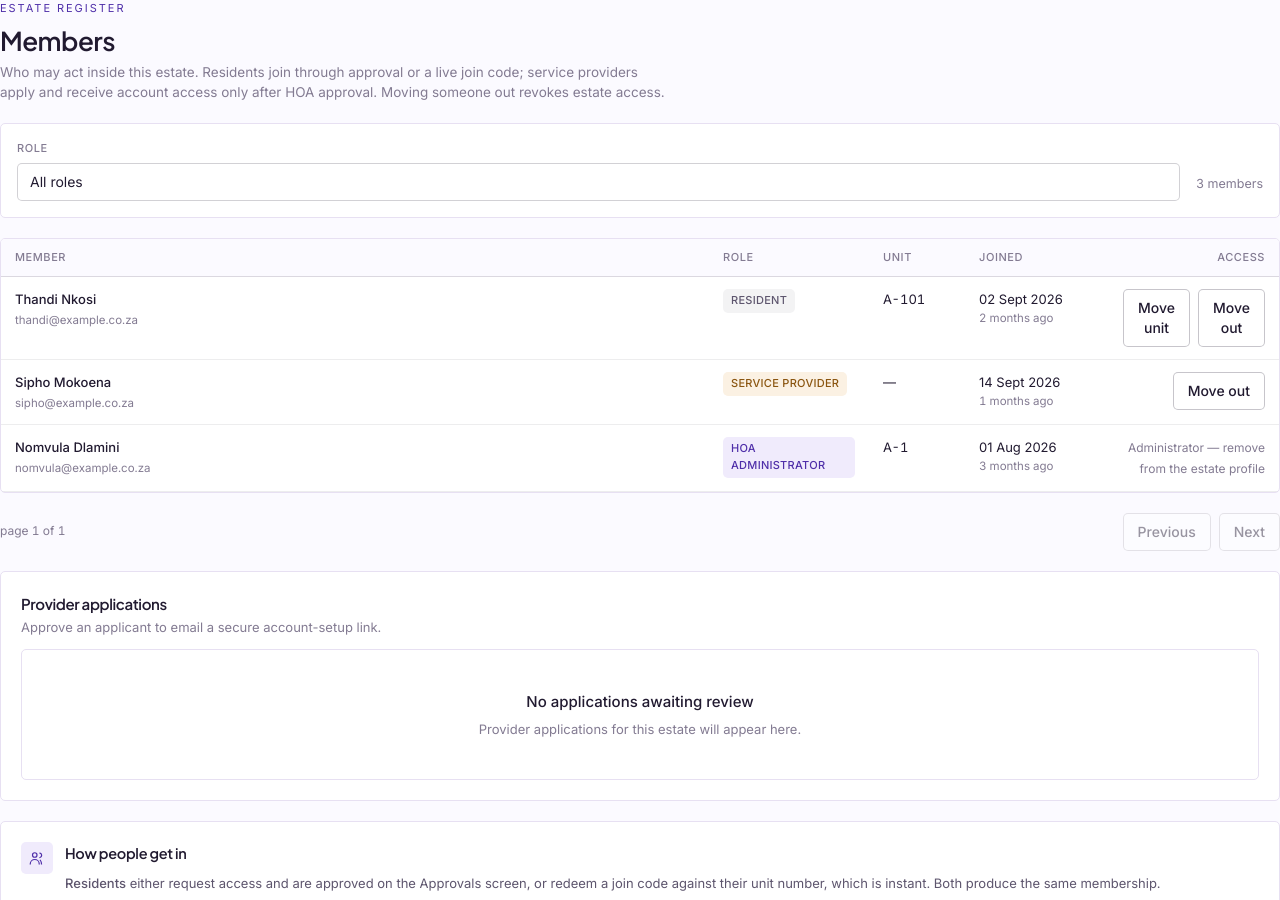
Scenario: Members — removal › removes on confirmation and reloads the register
This screenshot has width=1280, height=900.
Check: the text "Thandi Nkosi" is shown, box x1=15 y1=292 x2=96 y2=308
Click the button "Move out" in the row of "Thandi Nkosi" at (1232, 318), box x1=1198 y1=290 x2=1265 y2=348
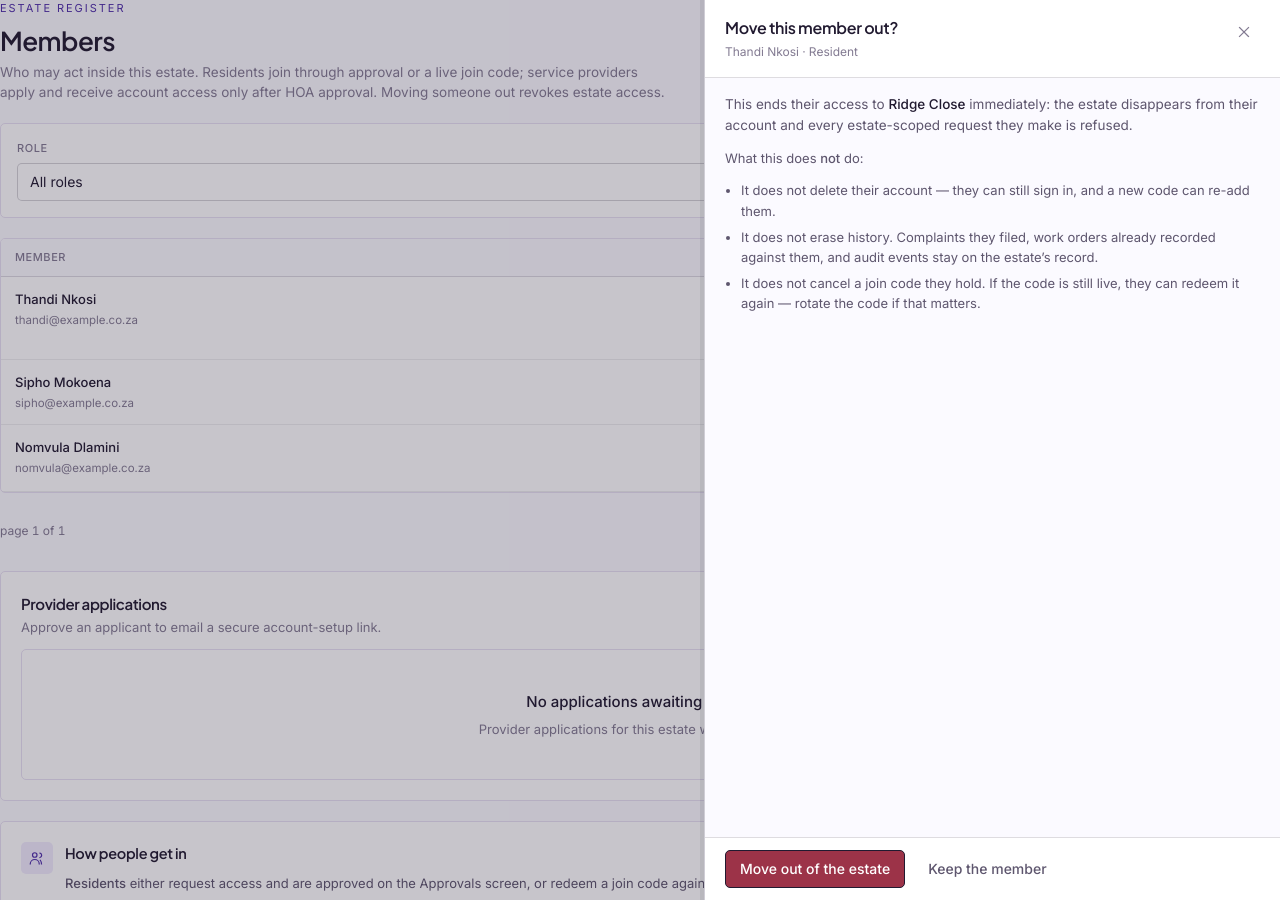
Click the button "Move out of the estate" at (815, 869), box x1=725 y1=850 x2=905 y2=888
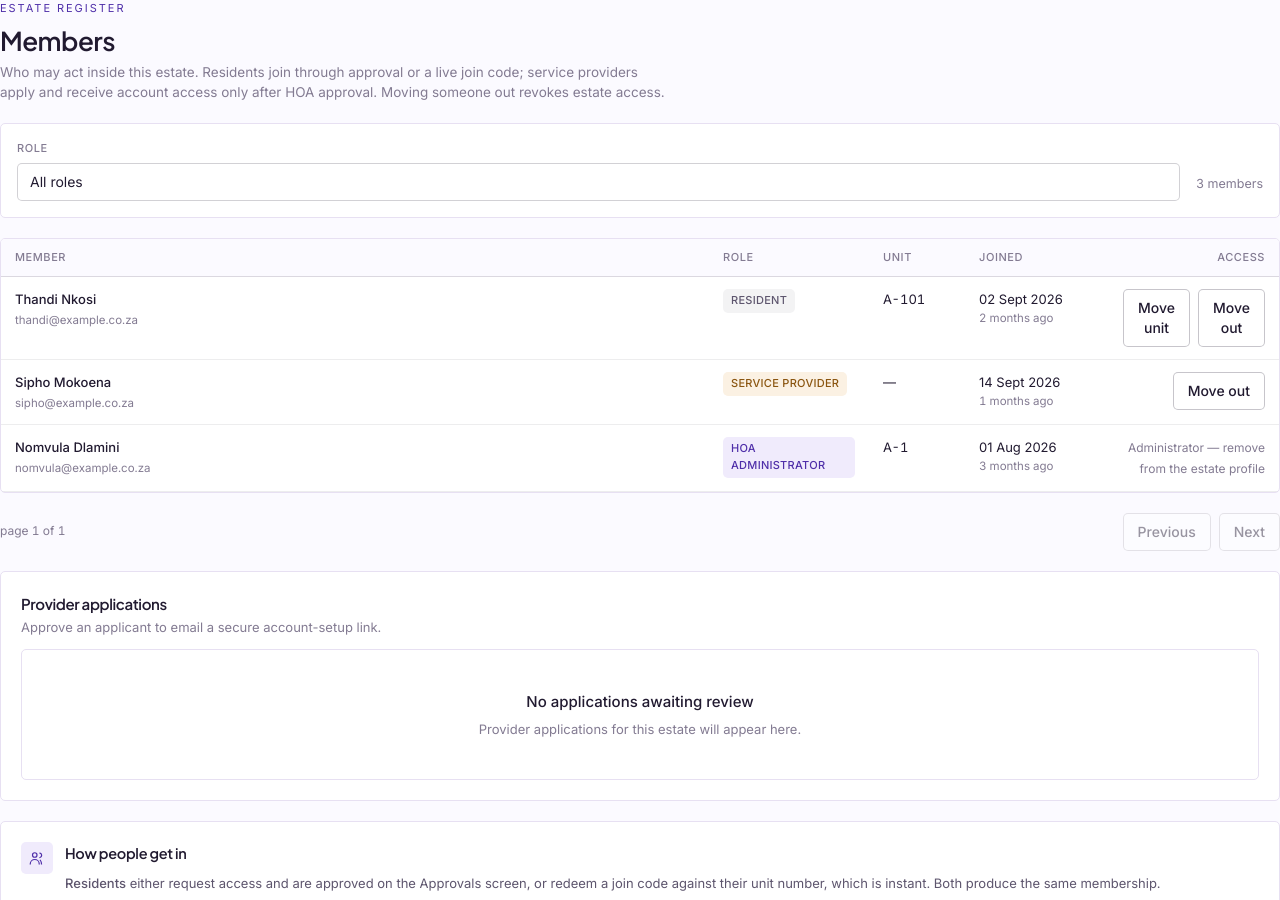
Check: the dialog is gone
